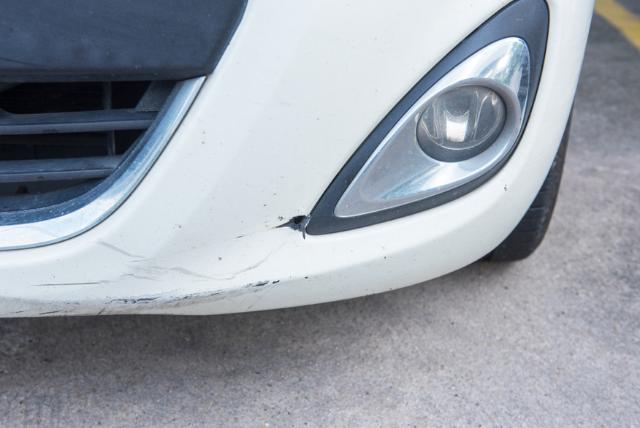Bumper: (4, 199, 326, 320)
